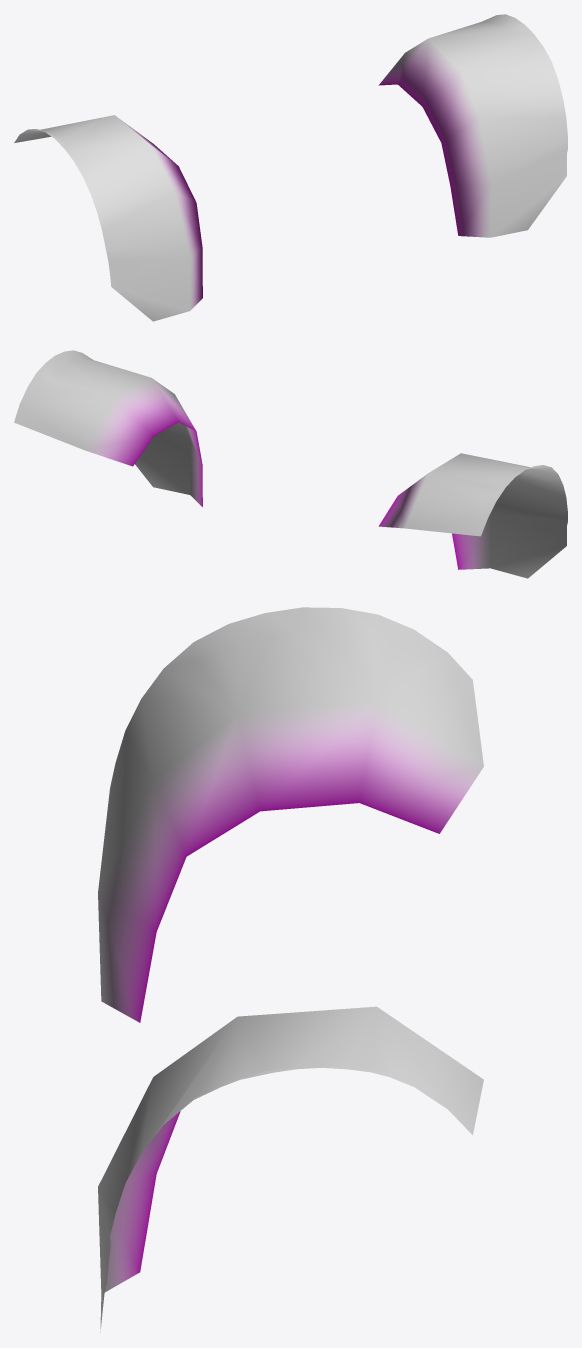
Rendered from Car_Nissan_SkylineGTRVspecR34_1999_FendersChassisR_SetF.fbx.
The picture shows the model from 3 angles, top to bottom: view 1: azimuth 30°, elevation 25°; view 2: azimuth 150°, elevation 25°; view 3: azimuth 270°, elevation 25°; orthographic projection. The views are drawn at different scales.
Visible parts, largest first — view 1: FendersChassisR 6; view 2: FendersChassisR 6; view 3: FendersChassisR 6.
Part boxes in pixels (x1=…): FendersChassisR 6: x1=14, y1=14, x2=567, y2=321; FendersChassisR 6: x1=14, y1=350, x2=567, y2=578; FendersChassisR 6: x1=98, y1=607, x2=483, y2=1332.
Bounding box in the file's own units: 1.88 × 0.6014 × 0.67.
